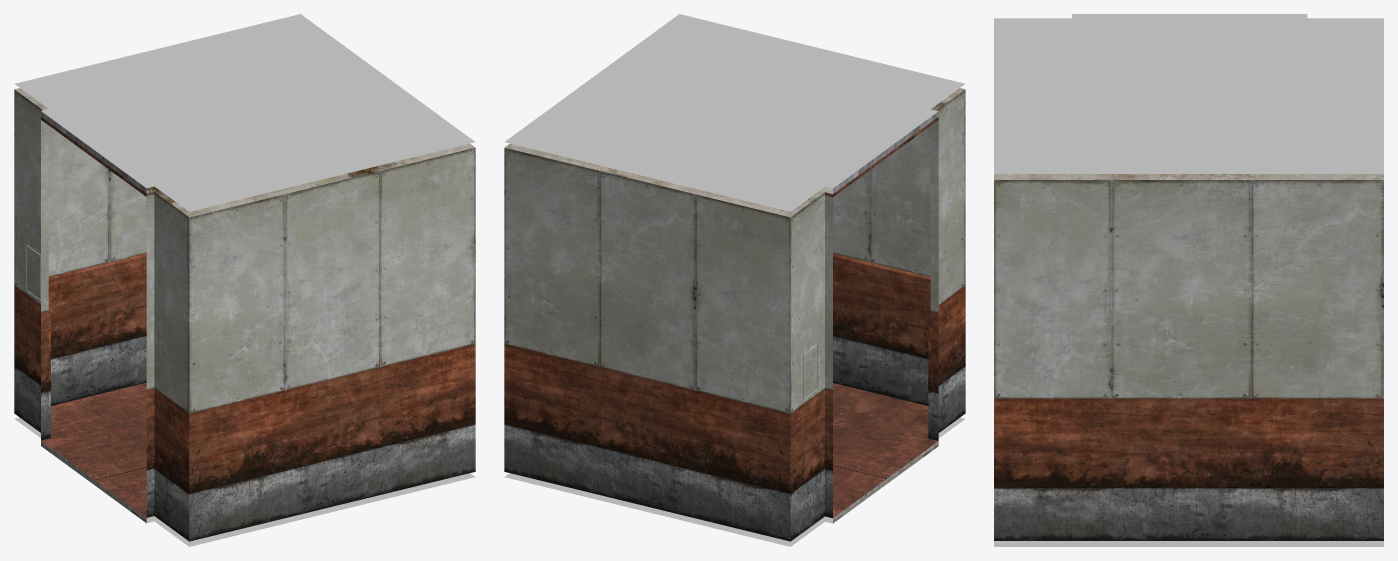
The model's file is Lift_Body.fbx.
3 renders of one model, left to right at view 1: azimuth 30°, elevation 25°; view 2: azimuth 150°, elevation 25°; view 3: azimuth 270°, elevation 25°, orthographic. The views are drawn at different scales.
Visible parts, largest first — view 1: Lift_Body; view 2: Lift_Body; view 3: Lift_Body.
Boxes of the visible parts, x1,y1,x2,y2 form: Lift_Body: (14, 14, 475, 546); Lift_Body: (504, 14, 965, 546); Lift_Body: (994, 14, 1383, 546).
Bounding box in the file's own units: 2.89 × 3.15 × 2.98.
